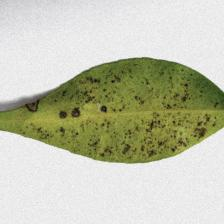canker: (62, 77, 203, 158)
